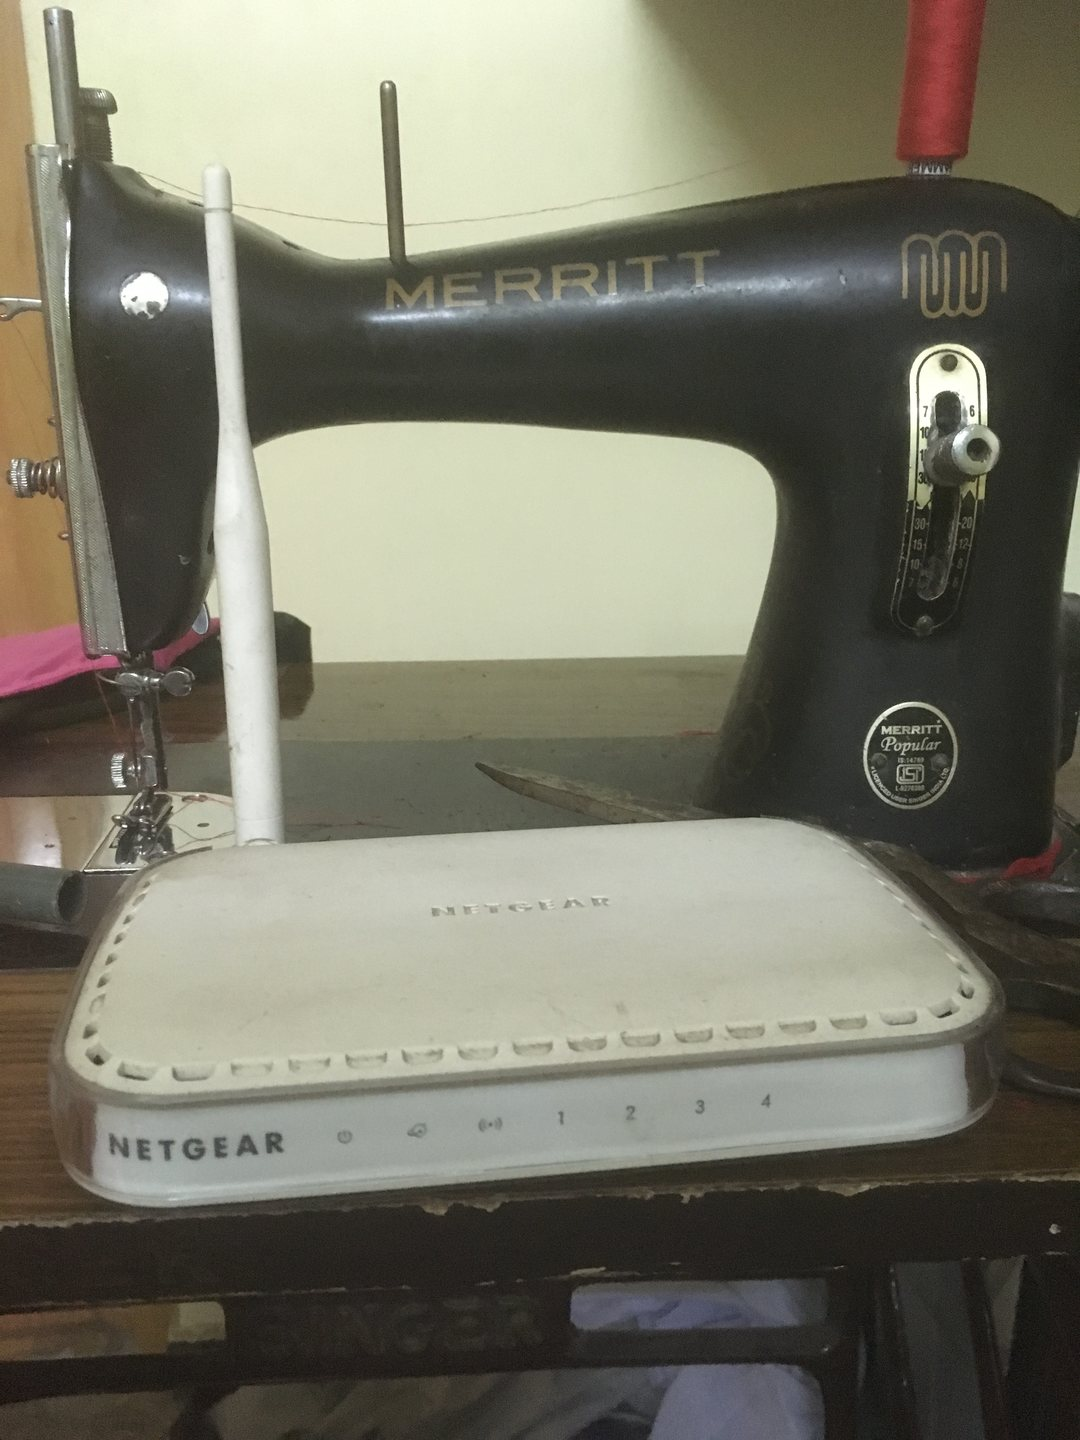NETGEAR: (100, 1123, 294, 1168)
modem: (54, 1026, 1037, 1206)
